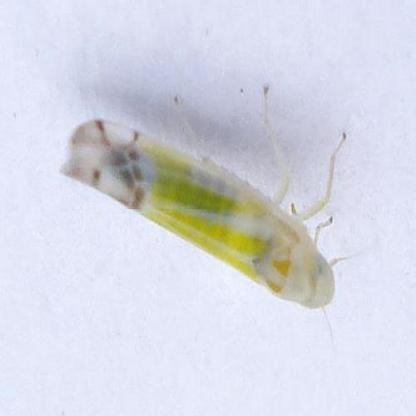green-leafhopper: (62, 86, 364, 307)
